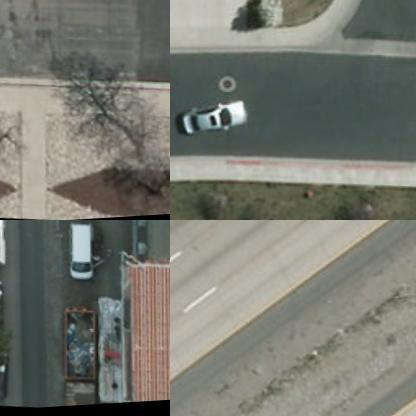car: (170, 93, 244, 143)
van: (58, 224, 92, 281)
